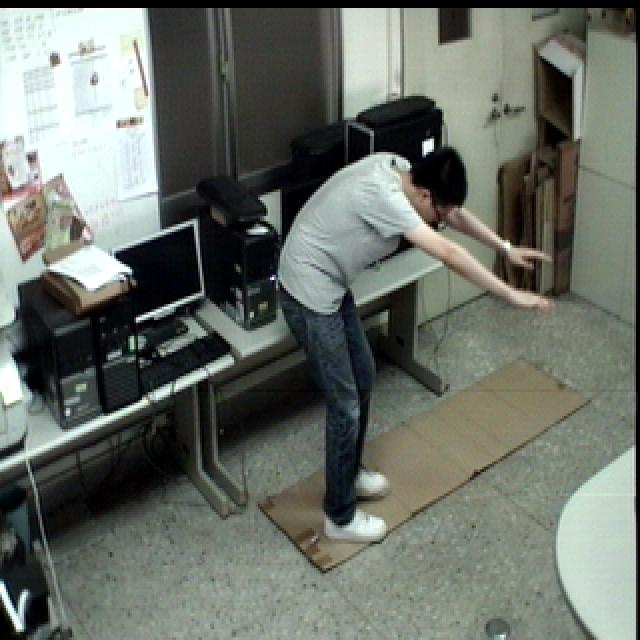bend: (273, 144, 554, 550)
